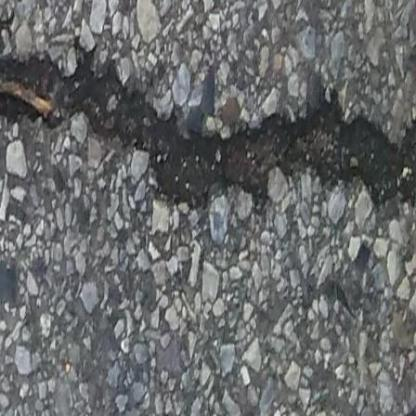Cracks: (0, 29, 416, 227)
